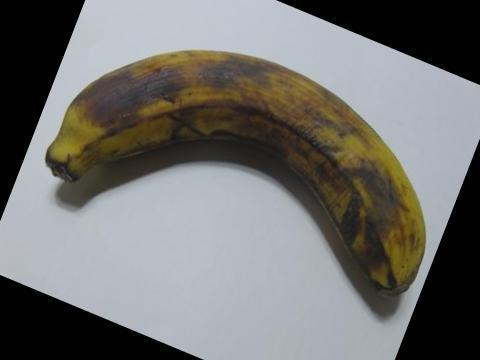overripe: (39, 38, 432, 298)
